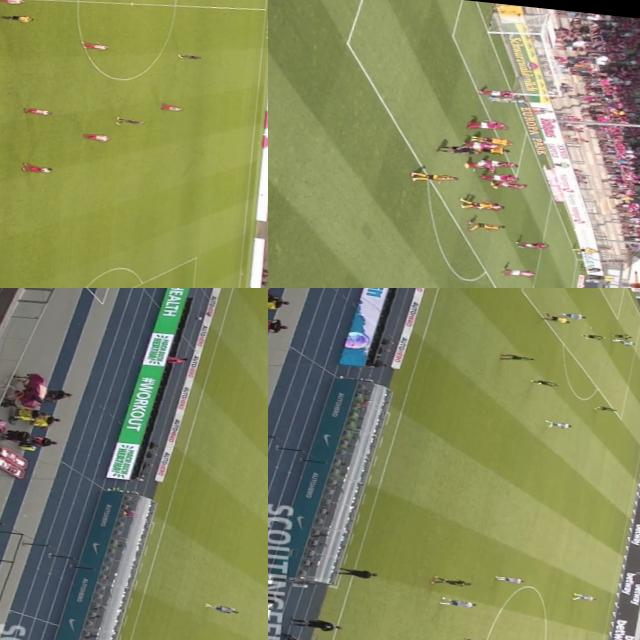ball: (572, 250, 586, 256)
player: (405, 168, 464, 184), (460, 157, 500, 175), (428, 573, 473, 588), (466, 118, 511, 132), (494, 264, 538, 278), (438, 596, 480, 608), (484, 157, 521, 170), (474, 134, 514, 146), (498, 351, 538, 363), (488, 94, 530, 105), (471, 199, 508, 211), (476, 144, 512, 156), (514, 238, 549, 250), (488, 180, 528, 190), (480, 172, 520, 182), (479, 87, 519, 97), (201, 603, 241, 613), (115, 115, 148, 126), (462, 198, 498, 208), (528, 376, 564, 386), (568, 244, 600, 255), (22, 163, 56, 173), (464, 139, 498, 149), (492, 573, 526, 583), (465, 221, 507, 229), (557, 310, 590, 320), (180, 50, 207, 61), (85, 130, 112, 141), (580, 331, 606, 342), (24, 106, 51, 116), (546, 419, 576, 428), (82, 40, 108, 50), (612, 336, 638, 346), (568, 592, 596, 601), (594, 403, 620, 412), (157, 103, 185, 111), (610, 332, 634, 340), (0, 0, 25, 4)
